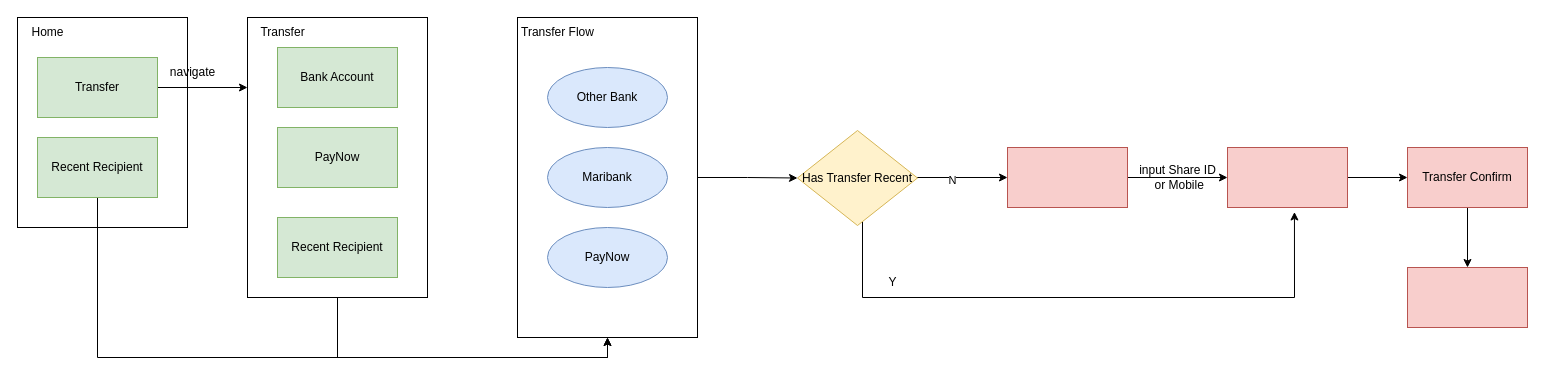
This 1545x383 diagram has some shape labels left out. The shapes that lost their labels are listed below. From the top down, each one's box as (x1, y1, x2, y2) in pixels, then its label:
(1006, 146, 1128, 208): New Transfer
(1226, 146, 1348, 208): Transfer Input Amount
(1406, 266, 1528, 328): Transfer Result
